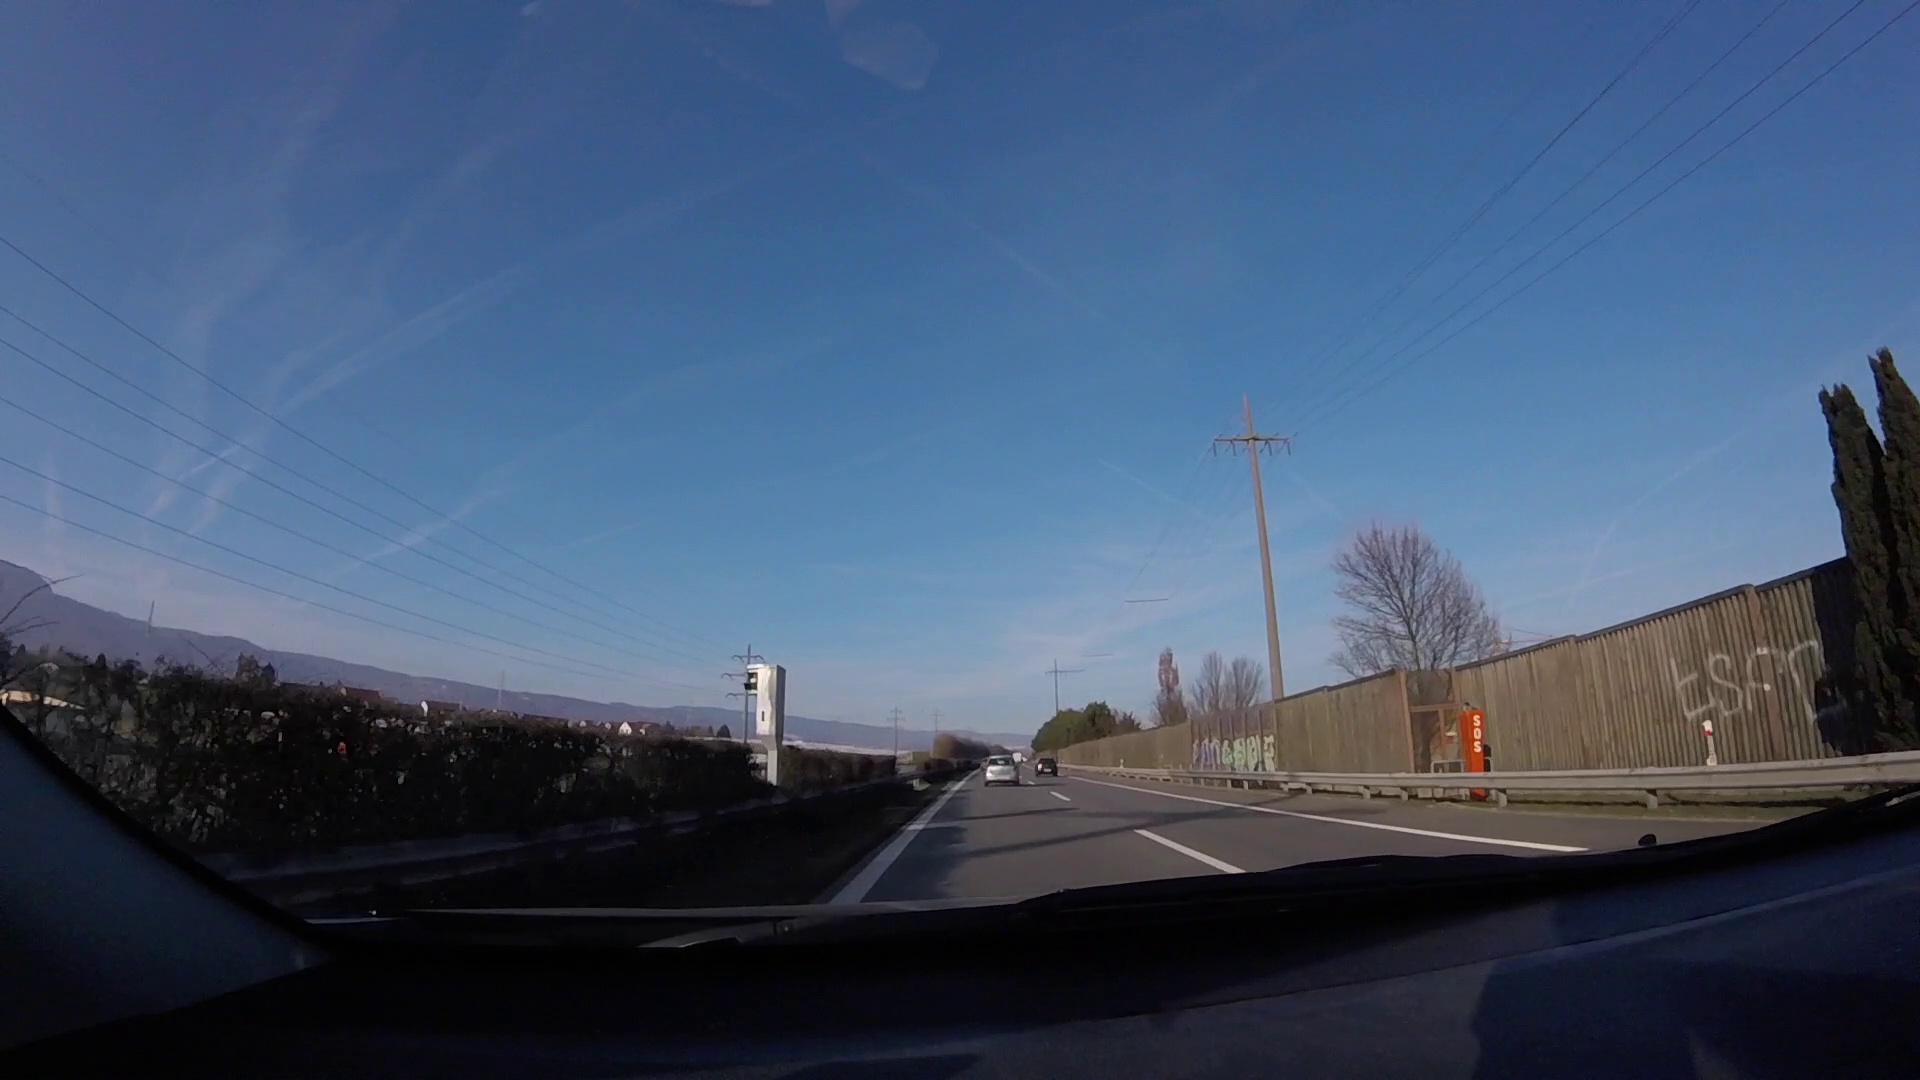radar: (742, 662, 789, 791)
